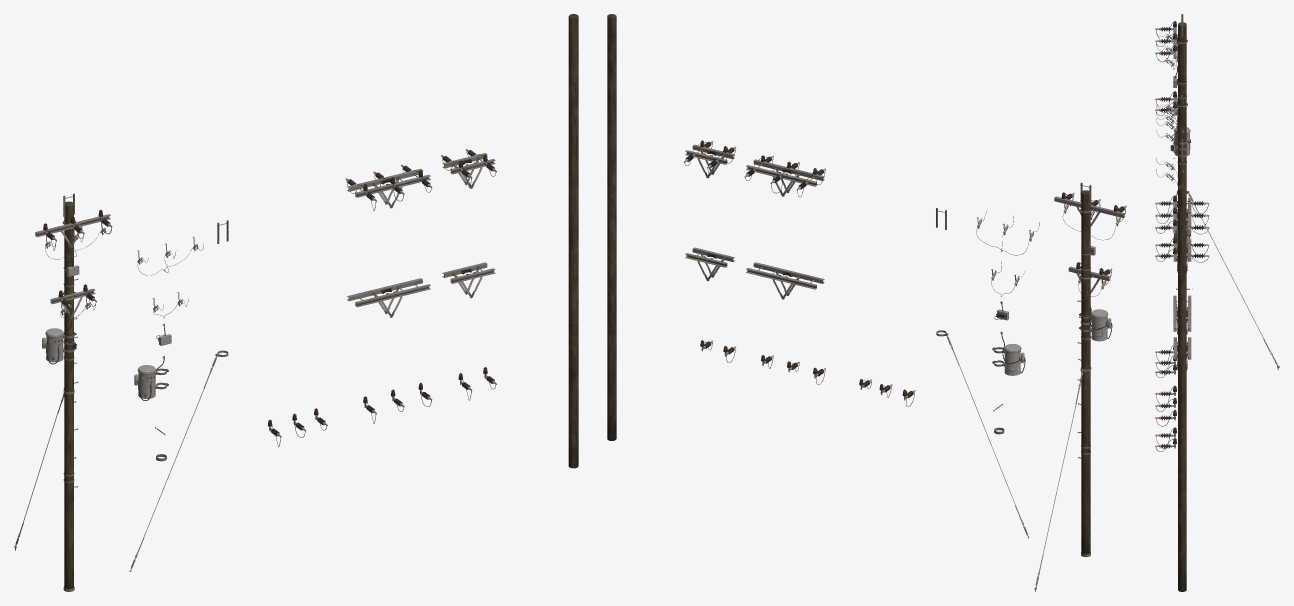
The model's file is postes.glb.
3 views of the same model, side by side, from view 1: azimuth 30°, elevation 25°; view 2: azimuth 150°, elevation 25°; view 3: azimuth 270°, elevation 25° (orthographic). The views are drawn at different scales.
Visible parts, largest first — view 1: pole_large, preset_01_pole, connection_large_01, support_large_01, connection_small_01, preset_01_connection_large_02, transformer_01, support_small_01, preset_01_transformer_01; view 2: pole_large, preset_01_pole, connection_large_01, support_large_01, connection_small_01, transformer_01, preset_01_transformer_01, support_small_01; view 3: pole_large, preset_01_pole, connection_large_01, connection_small_01, preset_01_connection_large_02, support_large_01, insulators_large, preset_01_connection_small_02, preset_01_transformer_01, support_small_01, preset_01_fastener, insulators_small (+1 smaller).
Boxes of the visible parts, x1=… form: pole_large: x1=568, y1=14, x2=578, y2=468; preset_01_pole: x1=64, y1=201, x2=73, y2=589; connection_large_01: x1=346, y1=164, x2=432, y2=210; support_large_01: x1=347, y1=278, x2=430, y2=317; connection_small_01: x1=441, y1=149, x2=496, y2=188; preset_01_connection_large_02: x1=35, y1=209, x2=112, y2=250; transformer_01: x1=134, y1=356, x2=168, y2=400; support_small_01: x1=442, y1=262, x2=495, y2=298; preset_01_transformer_01: x1=42, y1=319, x2=76, y2=364; pole_large: x1=607, y1=14, x2=616, y2=440; preset_01_pole: x1=1081, y1=190, x2=1090, y2=554; connection_large_01: x1=744, y1=155, x2=825, y2=197; support_large_01: x1=746, y1=262, x2=824, y2=299; connection_small_01: x1=684, y1=140, x2=736, y2=178; transformer_01: x1=992, y1=331, x2=1025, y2=375; preset_01_transformer_01: x1=1079, y1=307, x2=1112, y2=341; support_small_01: x1=685, y1=247, x2=734, y2=281; pole_large: x1=1178, y1=185, x2=1186, y2=591; preset_01_pole: x1=1178, y1=22, x2=1186, y2=186; connection_large_01: x1=1155, y1=195, x2=1209, y2=236; connection_small_01: x1=1155, y1=237, x2=1209, y2=271; preset_01_connection_large_02: x1=1155, y1=21, x2=1187, y2=61; support_large_01: x1=1173, y1=295, x2=1191, y2=334; insulators_large: x1=1155, y1=385, x2=1176, y2=426; preset_01_connection_small_02: x1=1155, y1=91, x2=1187, y2=125; preset_01_transformer_01: x1=1172, y1=126, x2=1190, y2=157; support_small_01: x1=1173, y1=337, x2=1191, y2=369; preset_01_fastener: x1=1187, y1=191, x2=1278, y2=367; insulators_small: x1=1155, y1=427, x2=1176, y2=451.
Bounding box in the file's own units: 8.87 × 7 × 1.96.
Materials: 2 (2 with a texture image).
